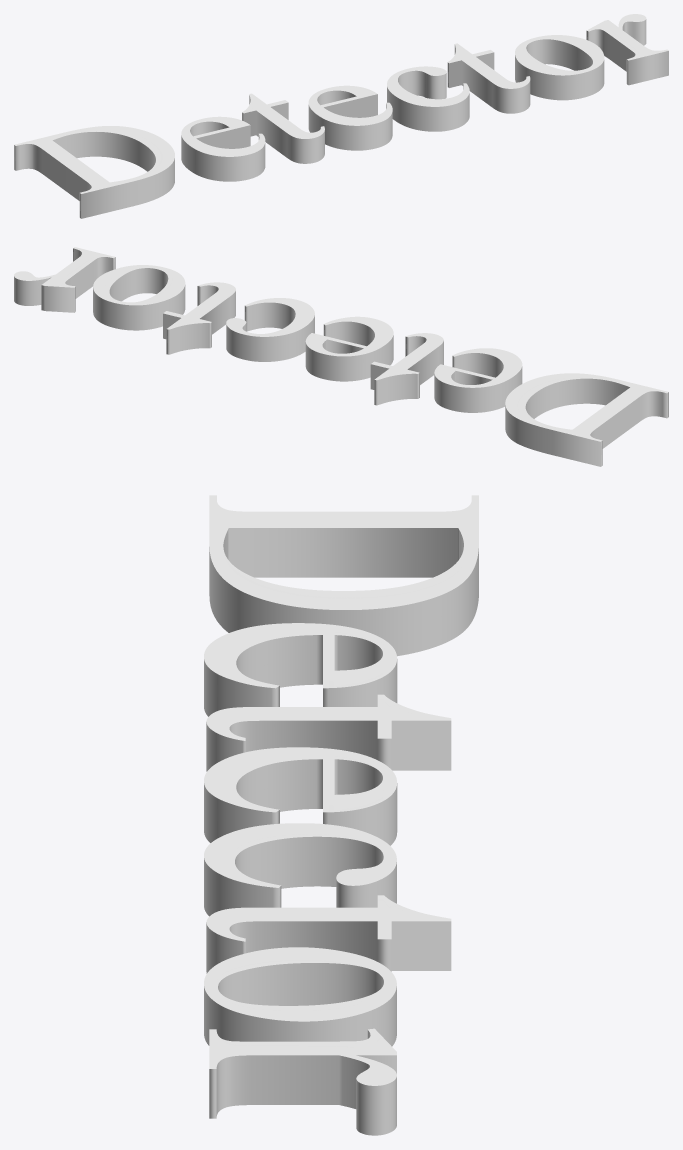
File: Detectortext.obj
3 views of the same model, one above another, from view 1: azimuth 30°, elevation 25°; view 2: azimuth 150°, elevation 25°; view 3: azimuth 270°, elevation 25° (orthographic). The views are drawn at different scales.
Visible parts, largest first — view 1: Text; view 2: Text; view 3: Text.
Part boxes in pixels (x1,y1,x2,y2): Text: (14,14,668,218); Text: (14,247,668,466); Text: (204,495,478,1135).
Size of the model in its own units: 2.55 by 0.1 by 0.502.
Materials: 1 (1 with a texture image).
